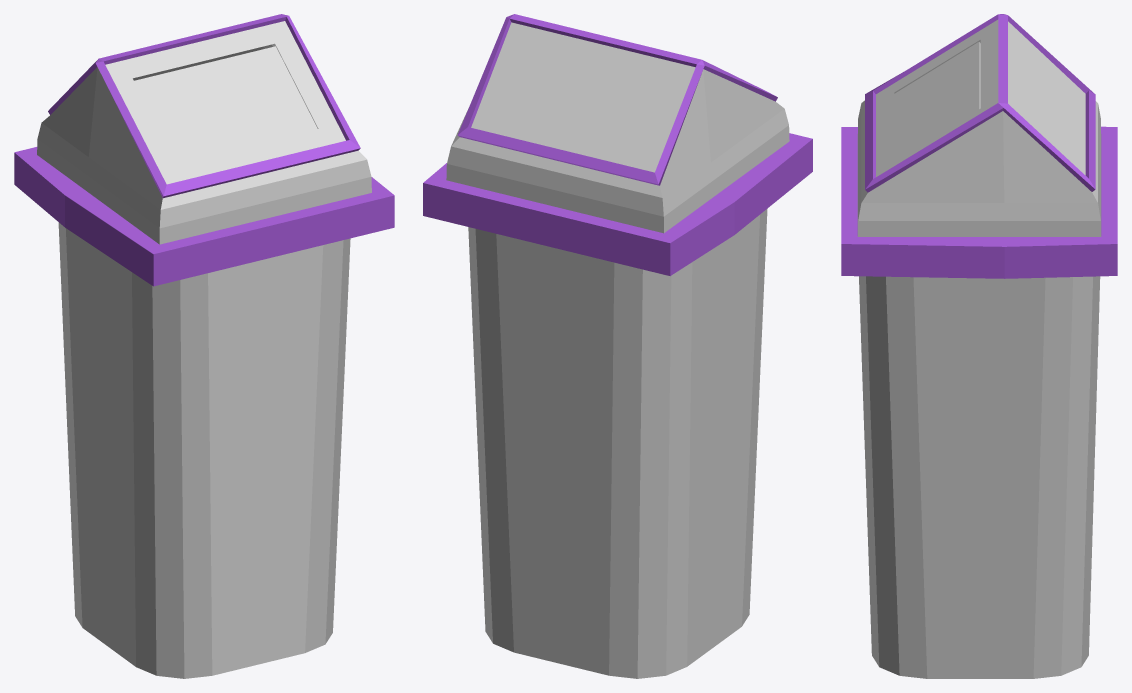
The model's file is recycleTrashbin.fbx.
3 views of the same model, side by side, from view 1: azimuth 30°, elevation 25°; view 2: azimuth 150°, elevation 25°; view 3: azimuth 270°, elevation 25° (orthographic). The views are drawn at different scales.
Visible parts, largest first — view 1: Cube, Cube.001; view 2: Cube; view 3: Cube, Cube.001.
Boxes of the visible parts, x1,y1,x2,y2 form: Cube: [14, 14, 394, 678]; Cube.001: [134, 46, 317, 163]; Cube: [423, 14, 812, 678]; Cube: [841, 14, 1117, 678]; Cube.001: [894, 42, 980, 160].
Size of the model in its own units: 267 by 584 by 255.
